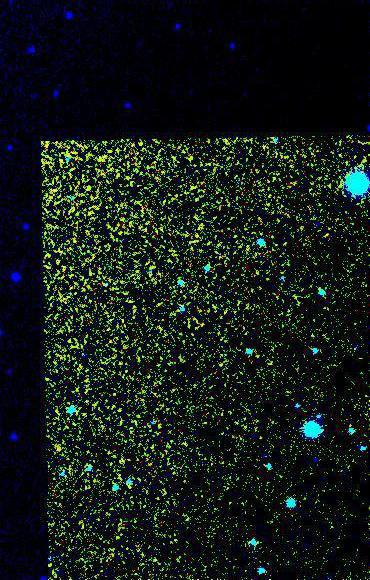star: (42, 438, 72, 468)
